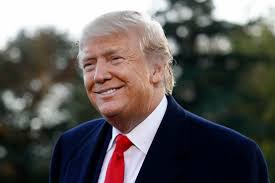noMask: (69, 7, 174, 126)
